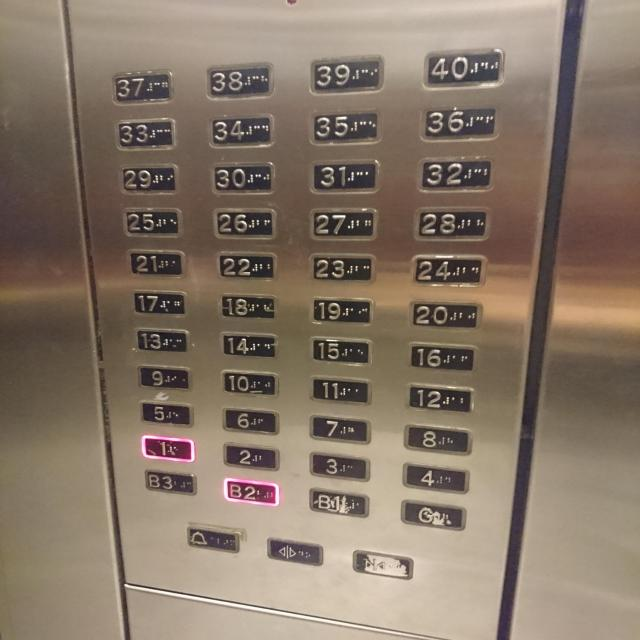1: (141, 434, 196, 462)
10: (220, 369, 279, 398)
11: (308, 374, 373, 407)
12: (404, 383, 474, 415)
13: (133, 327, 190, 356)
14: (219, 331, 279, 360)
15: (308, 335, 372, 367)
16: (405, 342, 478, 373)
17: (130, 289, 187, 319)
18: (215, 292, 278, 322)
19: (309, 296, 375, 326)
2: (222, 442, 280, 471)
20: (408, 300, 484, 331)
21: (125, 249, 186, 278)
22: (213, 250, 277, 283)
23: (308, 252, 378, 285)
24: (410, 254, 488, 287)
25: (121, 207, 184, 238)
26: (212, 206, 276, 240)
27: (308, 207, 378, 242)
28: (411, 207, 492, 242)
29: (118, 164, 179, 196)
3: (308, 451, 370, 483)
30: (209, 161, 275, 195)
31: (308, 158, 380, 194)
32: (415, 156, 495, 192)
33: (114, 117, 176, 152)
34: (208, 113, 274, 149)
35: (308, 108, 382, 146)
36: (420, 104, 501, 142)
37: (112, 68, 174, 106)
38: (205, 63, 275, 101)
39: (309, 55, 384, 95)
4: (402, 460, 470, 496)
40: (422, 49, 505, 90)
5: (137, 398, 194, 428)
6: (222, 405, 280, 436)
7: (308, 413, 372, 446)
8: (403, 423, 472, 457)
9: (136, 364, 193, 393)
B1: (308, 486, 371, 519)
B2: (223, 477, 279, 507)
B3: (144, 468, 198, 496)
G: (400, 498, 467, 532)
alarm: (186, 522, 248, 552)
close: (352, 549, 414, 581)
open: (267, 535, 323, 567)
